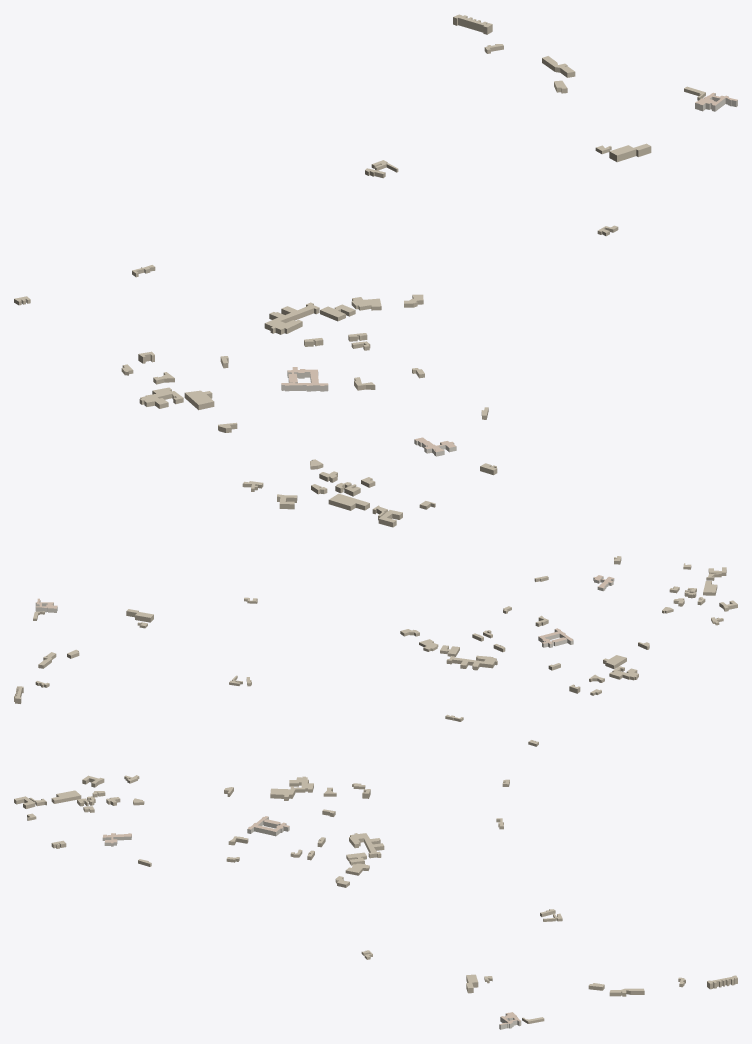
3 renders of one model, top to bottom at view 1: azimuth 30°, elevation 25°; view 2: azimuth 150°, elevation 25°; view 3: azimuth 270°, elevation 25°, orthographic. The views are drawn at different scales.
Size of the model in its own units: 1536 by 70.12 by 1721.
